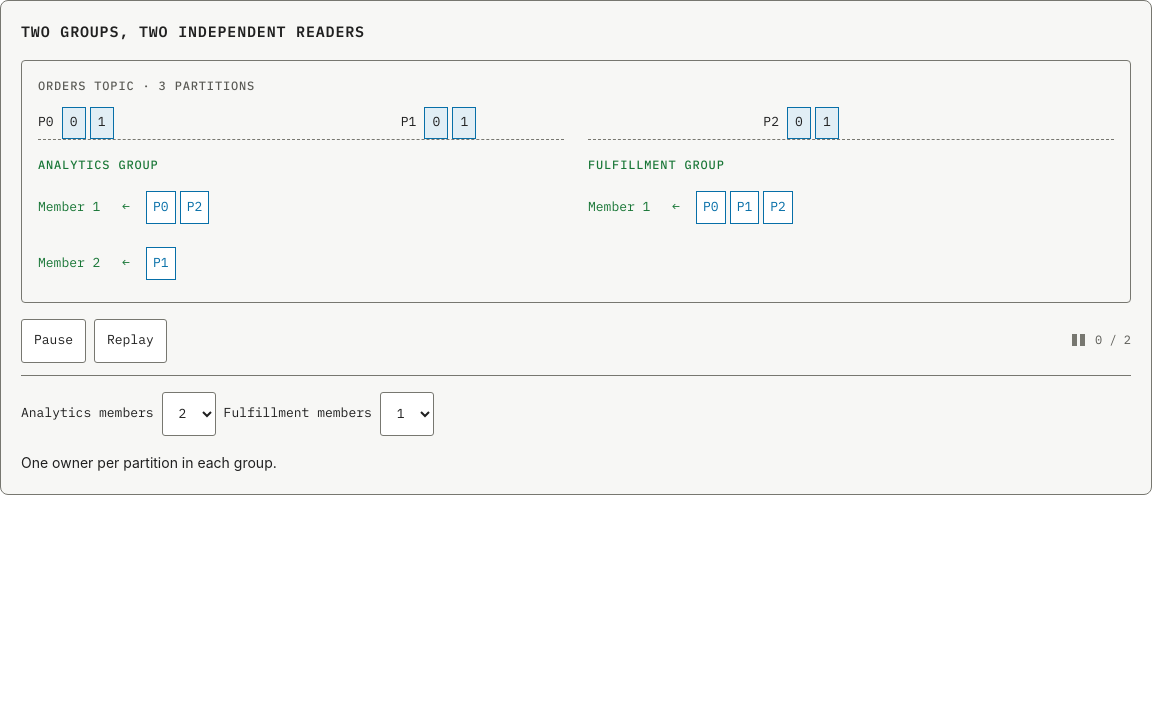
Test case: changes ownership within each group independently and exposes the fourth member as idle
The width and height of the screenshot is (1152, 720).
Select "4" in the dropdown labelled "Analytics members" at x=189, y=414, box [162,392,216,436]
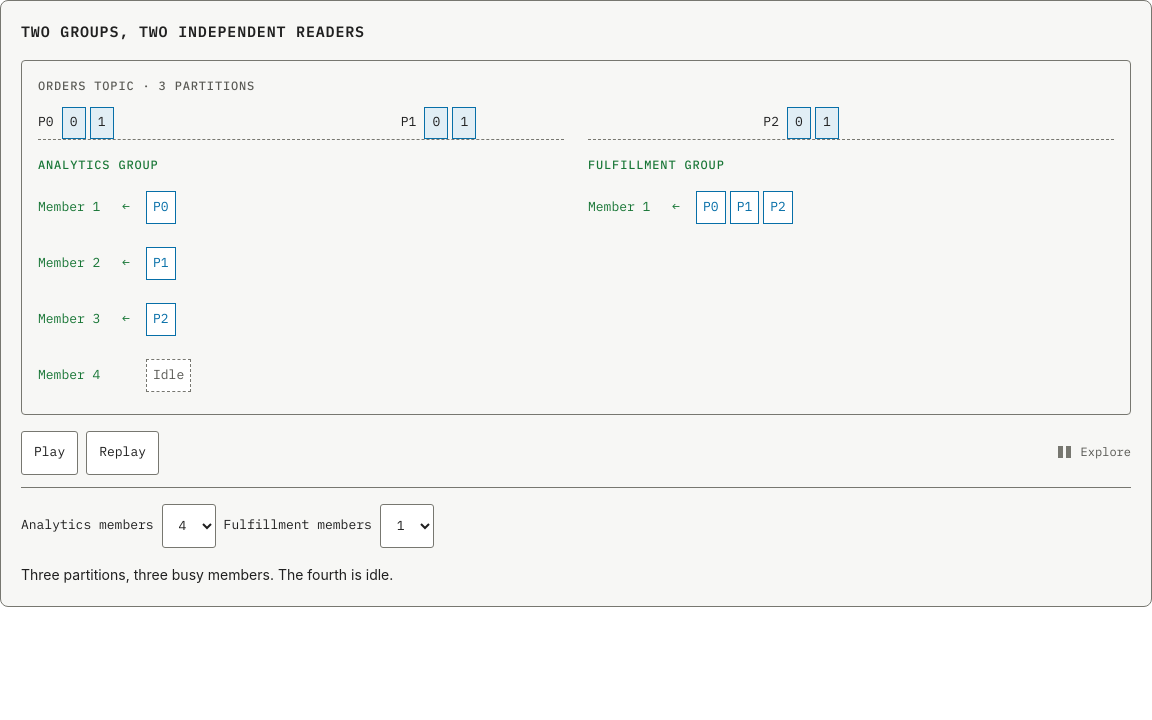
Result: the text "Member 4" is shown at [38,366,100,384]
Result: the text "Idle" is shown at [146,360,191,392]
Result: the message shows "fourth is idle" at [21,566,393,582]
